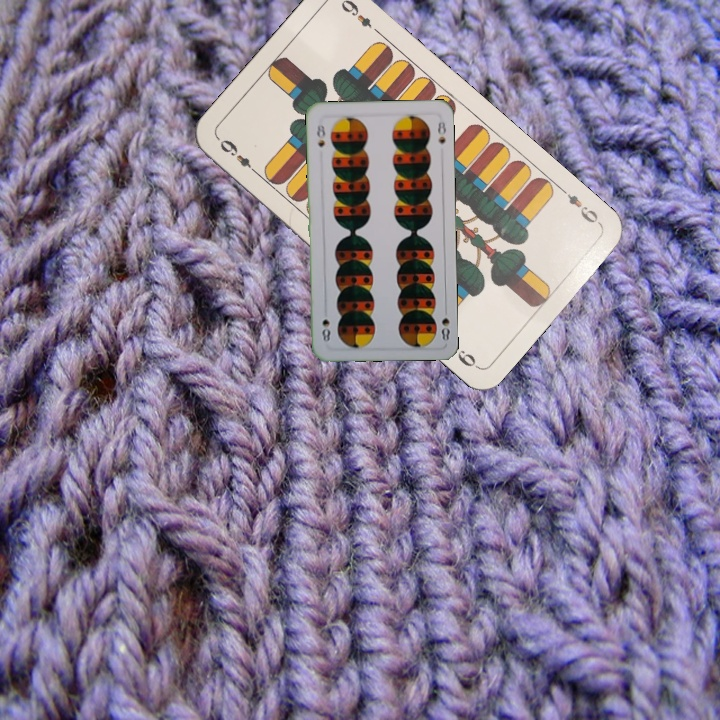E9: (556, 183, 604, 228), (214, 135, 262, 178)
S8: (437, 303, 452, 343), (313, 119, 328, 149)
